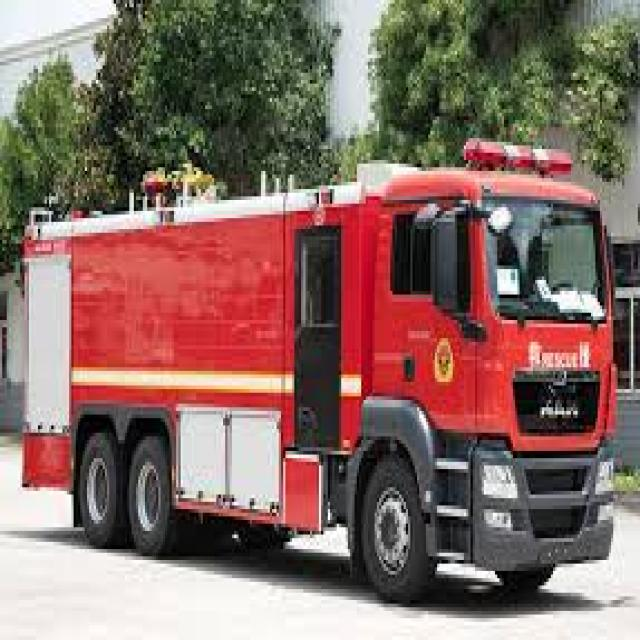Fire-truck: (18, 134, 618, 604)
